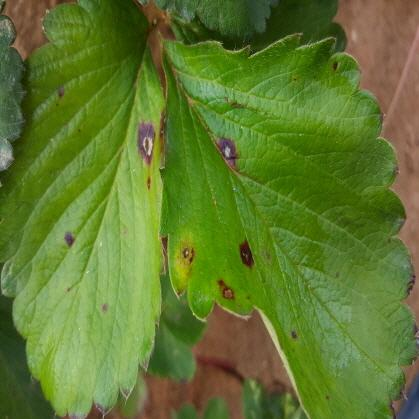Leaf Spot: (157, 32, 418, 418)
